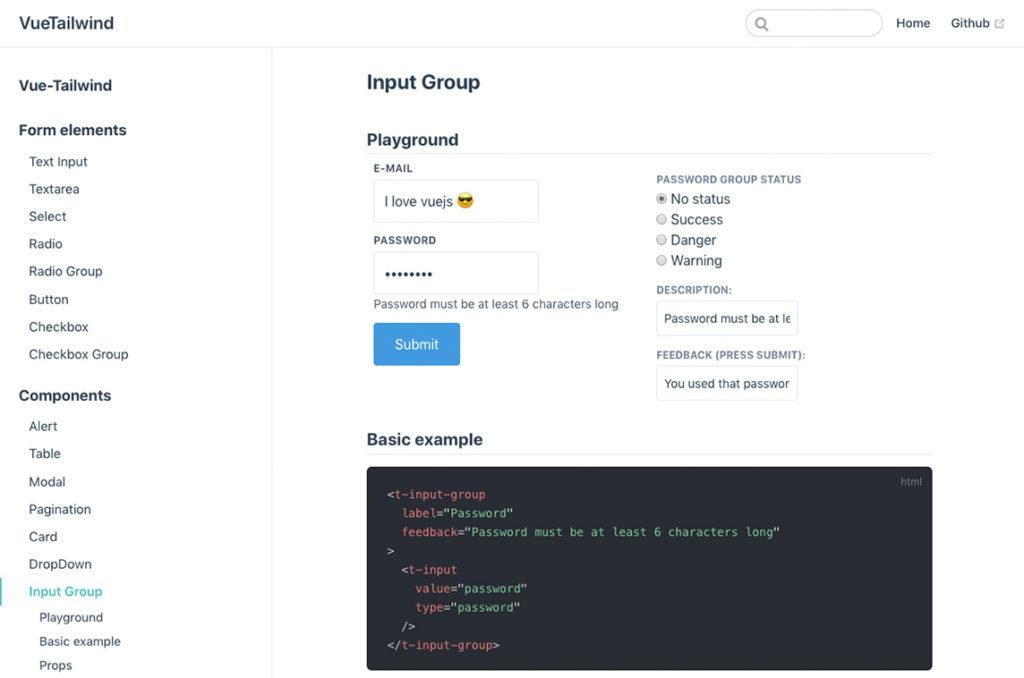button: (375, 323, 464, 369)
input: (374, 249, 541, 296), (374, 179, 539, 223), (656, 299, 801, 338), (656, 364, 802, 402), (745, 9, 885, 39)
label: (652, 172, 806, 188), (655, 349, 807, 362), (671, 192, 733, 208), (657, 283, 731, 296), (671, 212, 726, 229), (670, 232, 719, 248), (672, 255, 724, 269), (374, 236, 439, 247), (372, 162, 413, 175)
radio: (655, 230, 669, 249), (656, 252, 669, 269), (656, 191, 669, 208), (655, 214, 667, 230)
